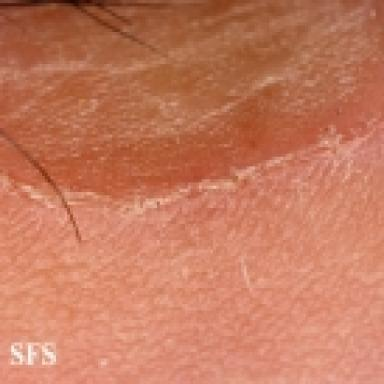Porokeratosis: (0, 3, 384, 204)
